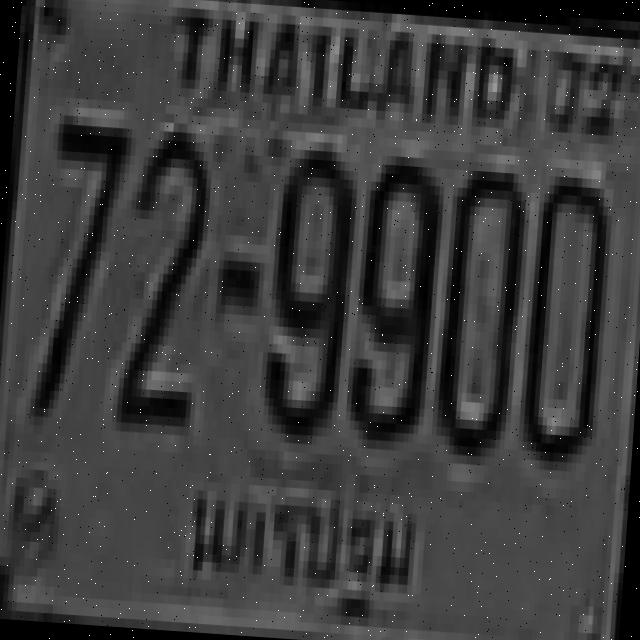0: (516, 166, 616, 470), (432, 160, 531, 460)
2: (112, 120, 210, 427)
7: (30, 110, 128, 416)
9: (257, 139, 355, 437), (344, 150, 442, 438)
NakhonPathom: (172, 456, 430, 627)
